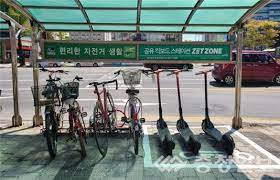kick_board: (196, 70, 234, 153), (147, 69, 174, 153)
kick_body: (158, 124, 169, 140), (179, 127, 193, 139)
kick_handler: (148, 68, 170, 76), (194, 69, 214, 76), (168, 69, 188, 75)
kick_neck: (175, 76, 183, 121), (157, 75, 163, 118), (204, 76, 210, 119)
kick_wheel: (223, 135, 235, 153), (190, 136, 201, 152), (164, 140, 175, 153)
